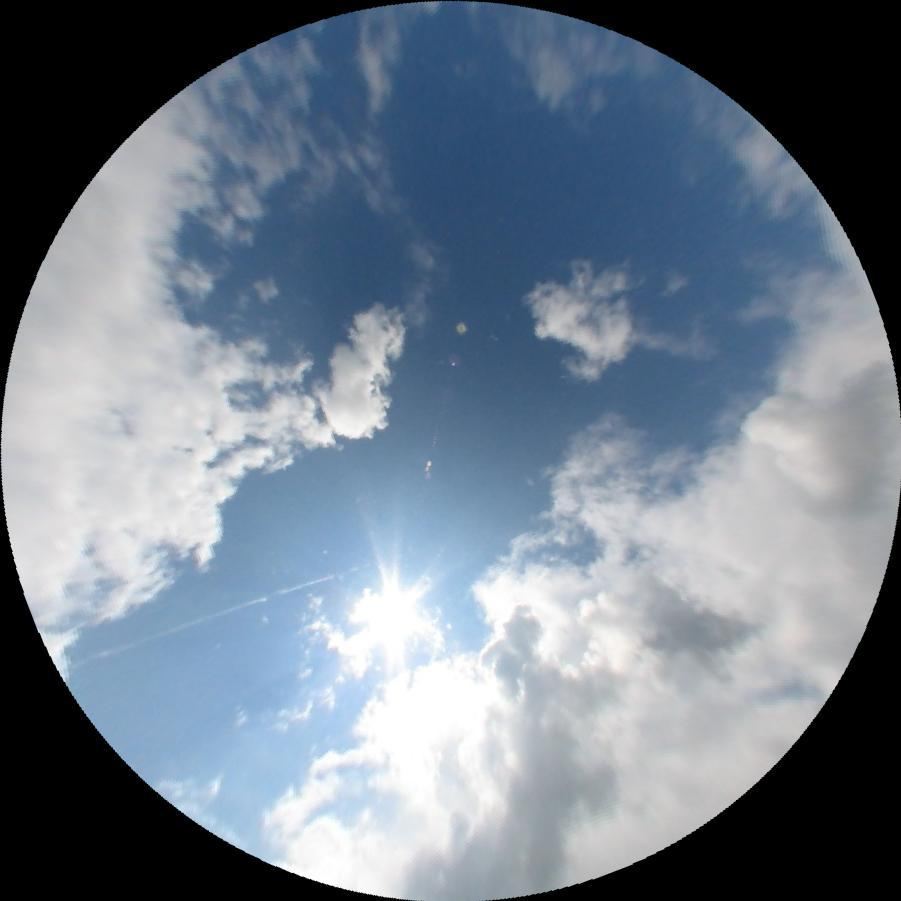parasite: (61, 569, 334, 672)
sun: (358, 580, 425, 652)
